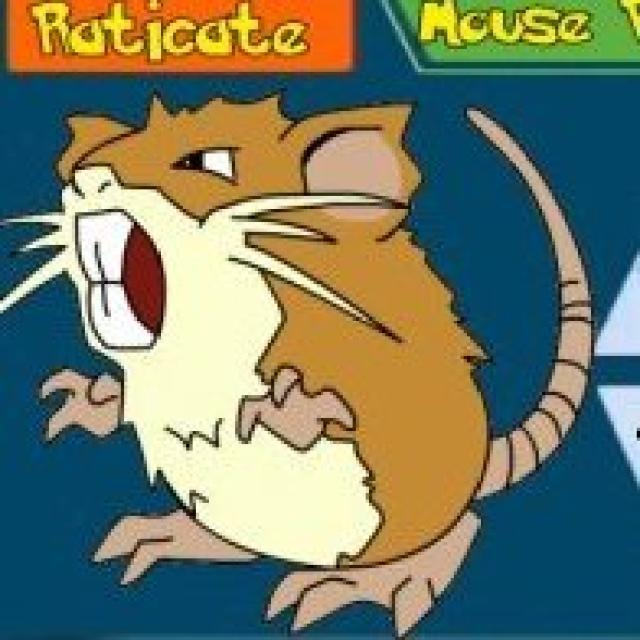Raticate: (49, 95, 506, 607)
